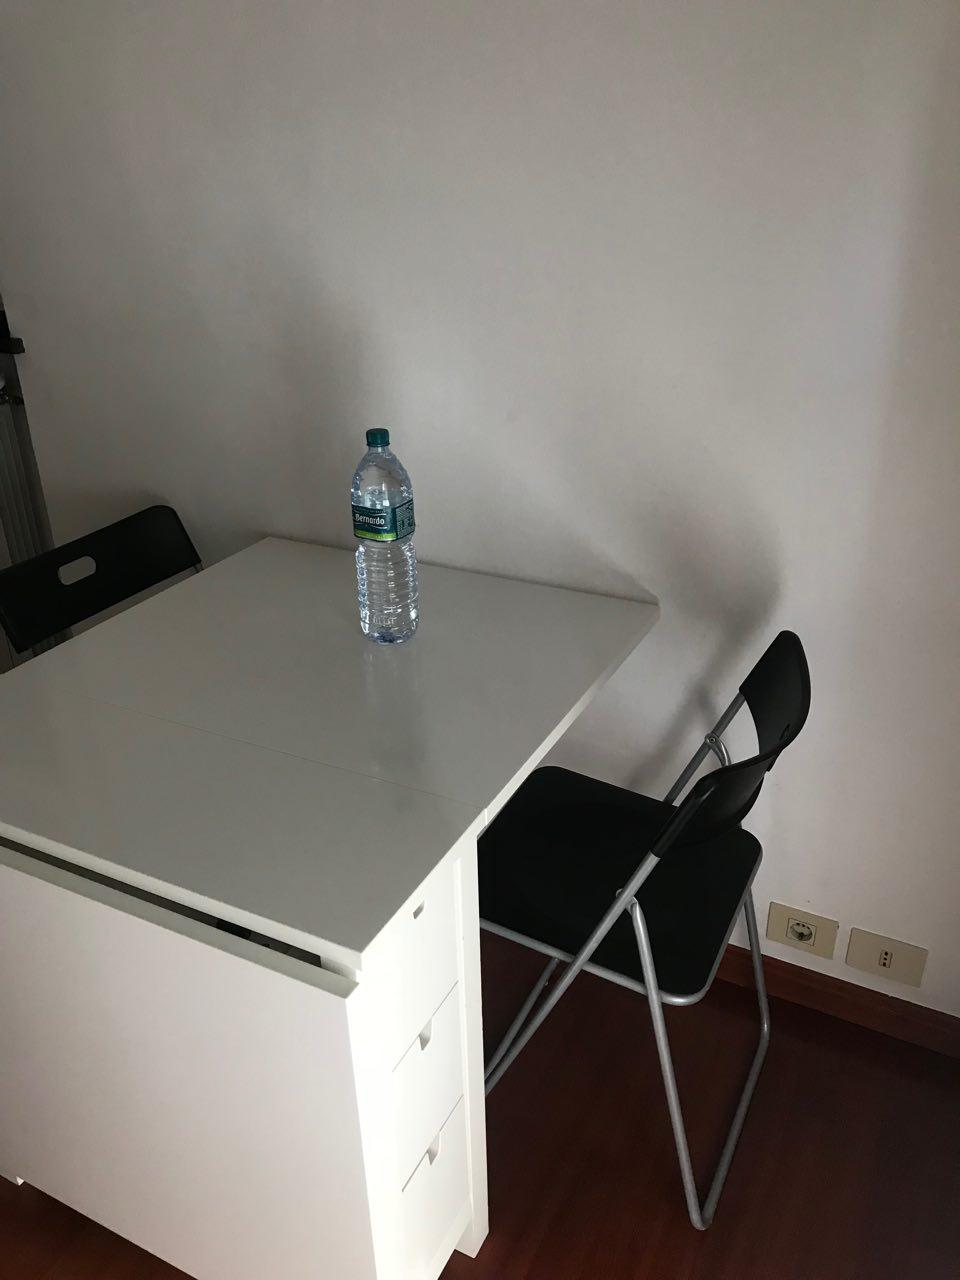san_bernardo: (350, 426, 419, 646)
